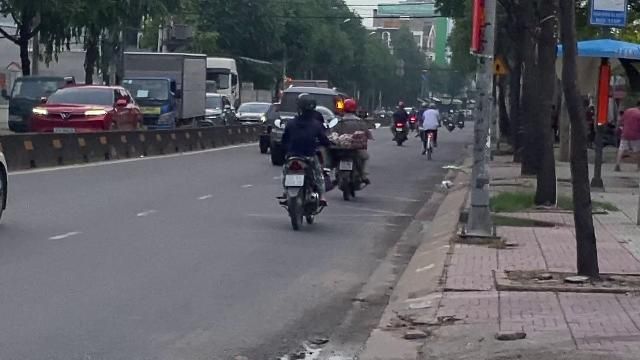helmet: (294, 93, 314, 114)
licenseplate: (285, 174, 303, 185)
motorcyclist: (274, 93, 330, 229), (0, 62, 12, 230)
